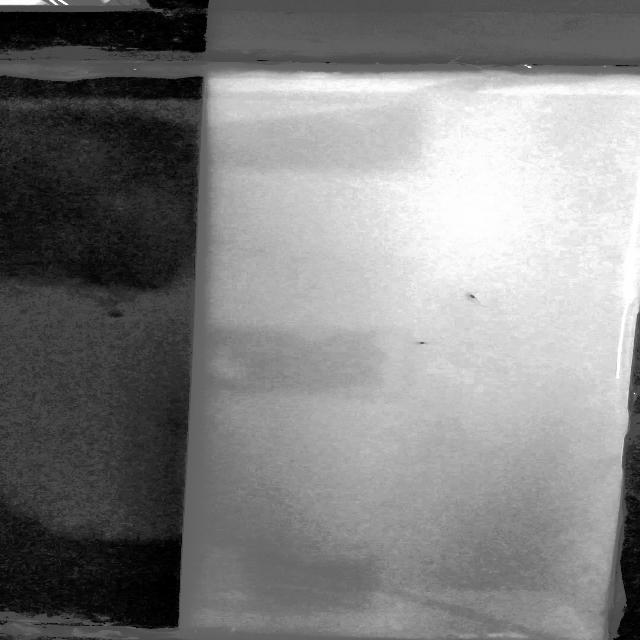shrimp: (458, 286, 485, 306), (412, 335, 439, 348)
